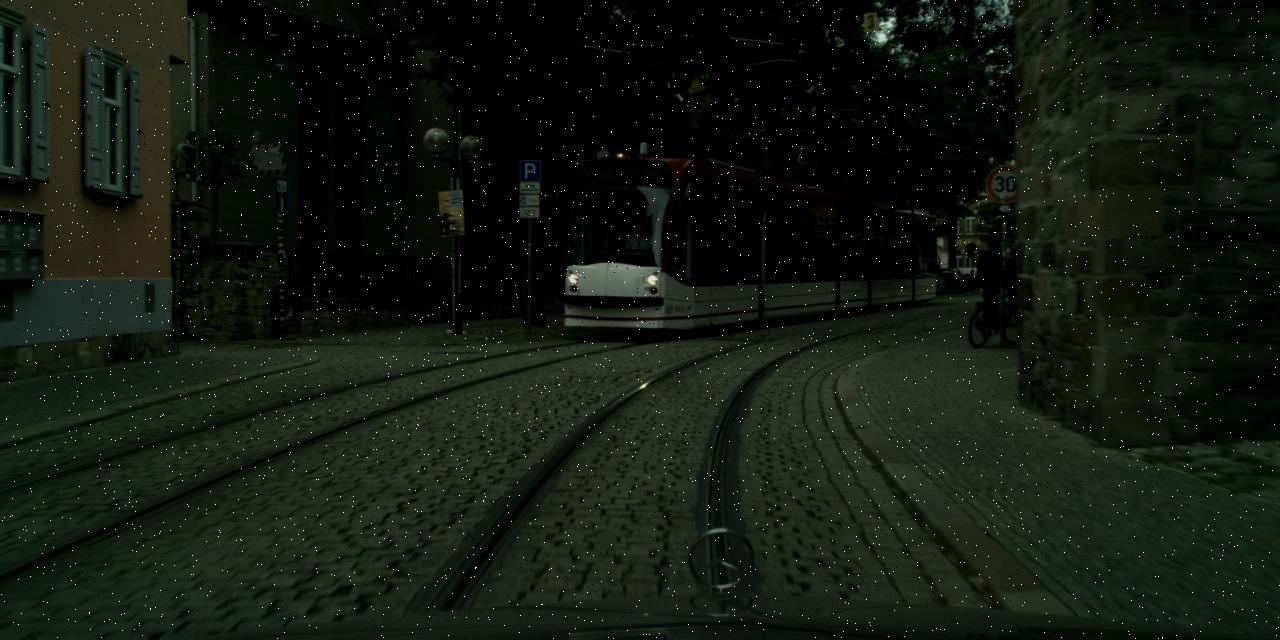ped: (976, 238, 1010, 320), (1001, 247, 1027, 311)
